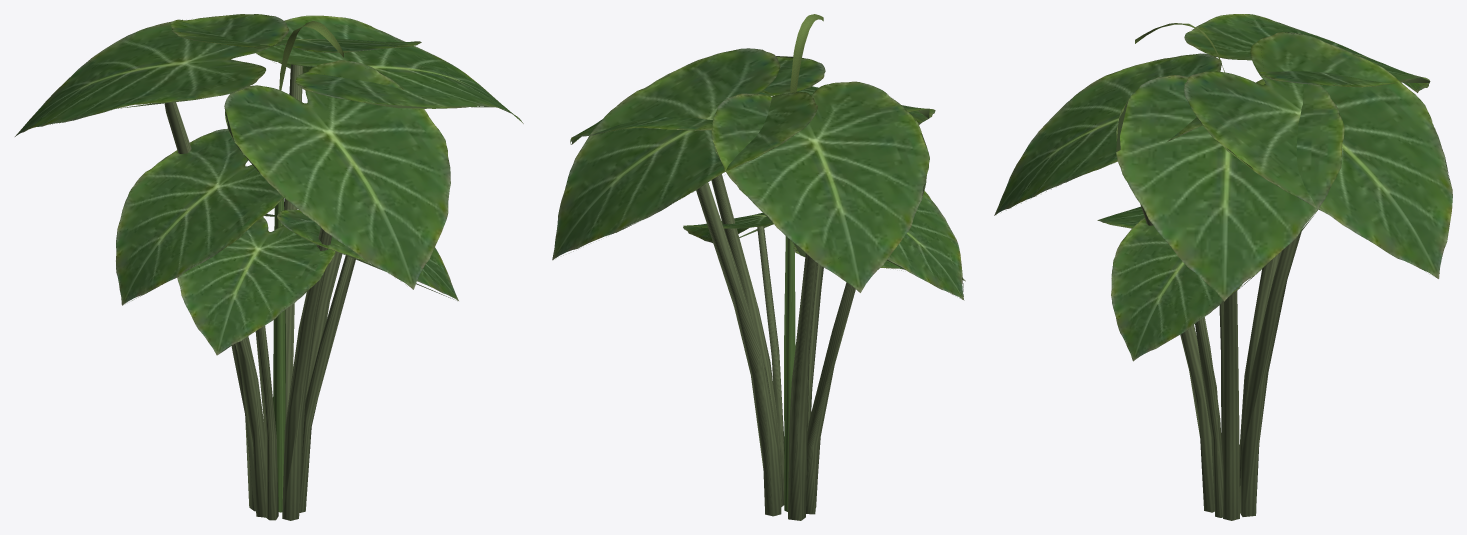
Rendered from taro-3-lite.glb.
3 views of the same model, side by side, from view 1: azimuth 30°, elevation 25°; view 2: azimuth 150°, elevation 25°; view 3: azimuth 270°, elevation 25° (orthographic). The views are drawn at different scales.
Parts seen in each view (by area): view 1: leaf, petiole, leaf-edge, new-leaf; view 2: leaf, petiole, new-leaf, leaf-back, leaf-edge; view 3: leaf, petiole, leaf-edge.
Part boxes in pixels (x1,y1,x2,y2): leaf: [15, 14, 515, 355]; petiole: [164, 64, 355, 520]; leaf-edge: [52, 14, 517, 354]; new-leaf: [279, 21, 343, 90]; leaf: [552, 48, 965, 299]; petiole: [696, 174, 855, 520]; new-leaf: [790, 14, 823, 92]; leaf-back: [570, 109, 935, 242]; leaf-edge: [563, 49, 965, 299]; leaf: [994, 14, 1452, 361]; petiole: [1140, 204, 1301, 520]; leaf-edge: [1001, 16, 1451, 300].
Bounding box in the file's own units: 1.08 × 1.23 × 1.04.
Materials: 5 (4 with a texture image).
